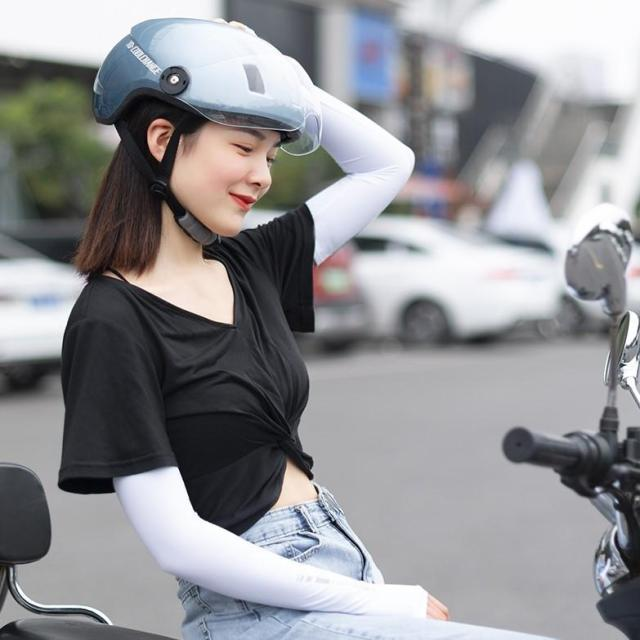helmet: (94, 12, 324, 252)
